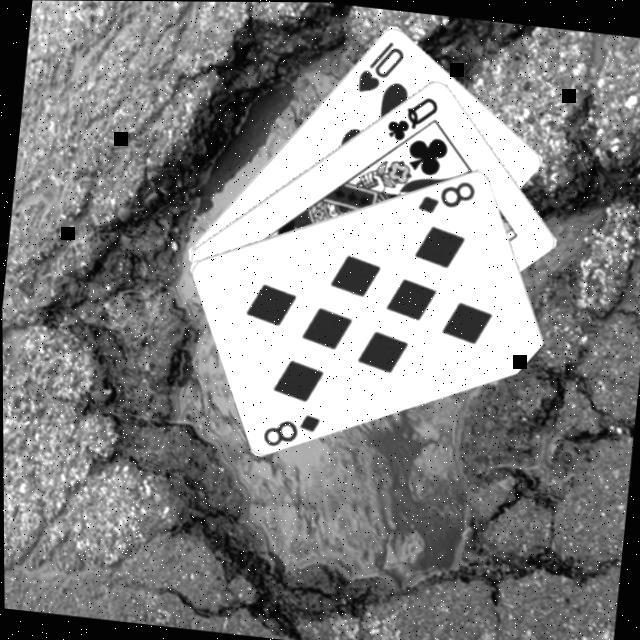10H: (352, 34, 408, 99)
8D: (412, 172, 478, 220), (256, 405, 322, 453)
QC: (380, 89, 440, 148)
